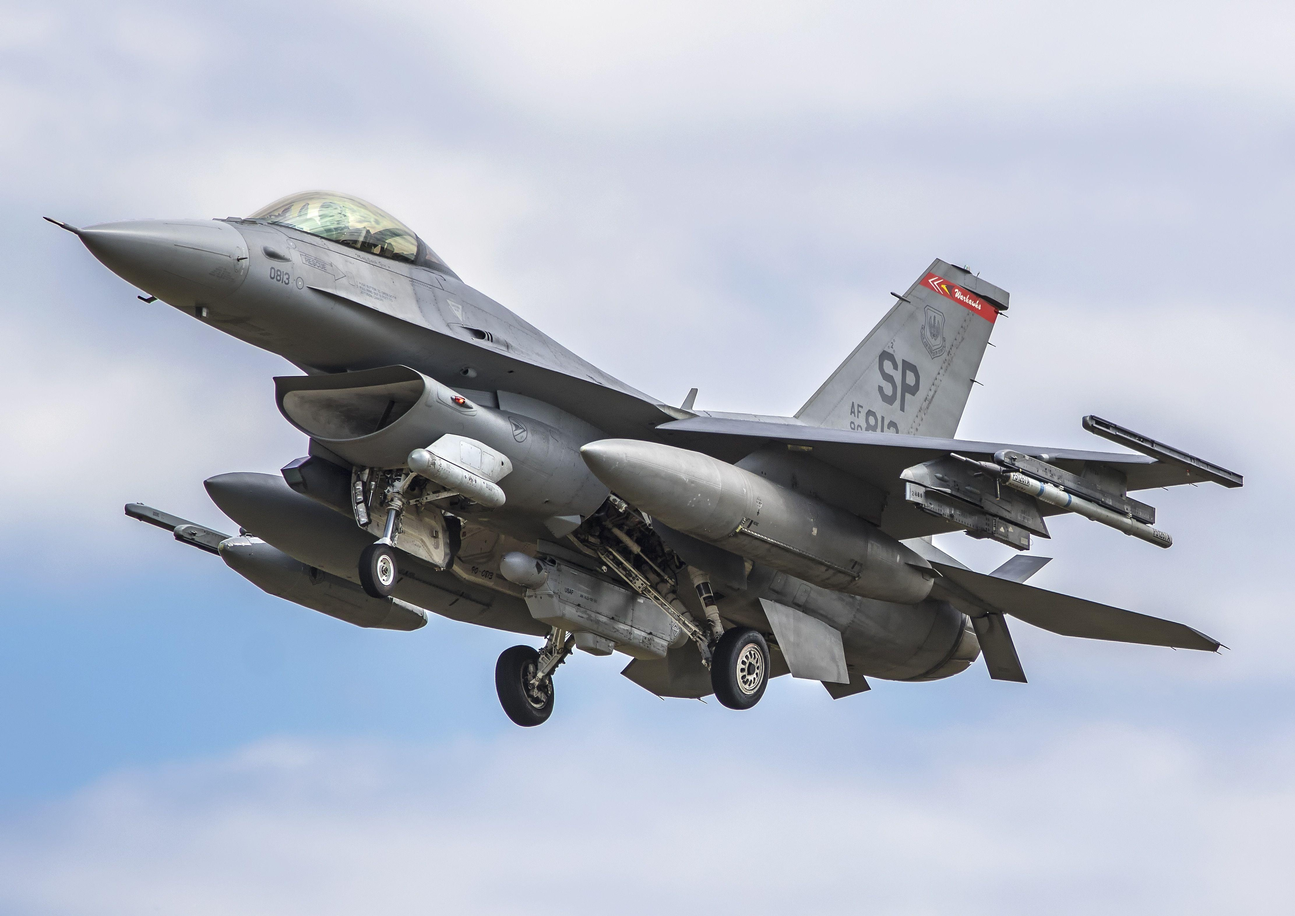aircraft: (62, 187, 1247, 723)
